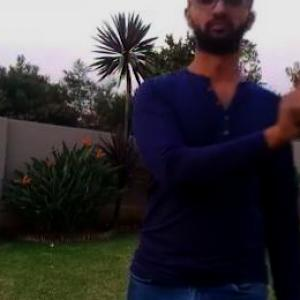land_hand: (278, 53, 299, 137)
